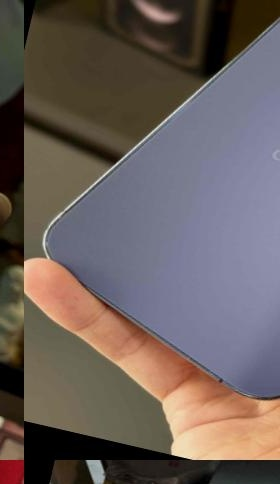scratch: (0, 478, 6, 484)
